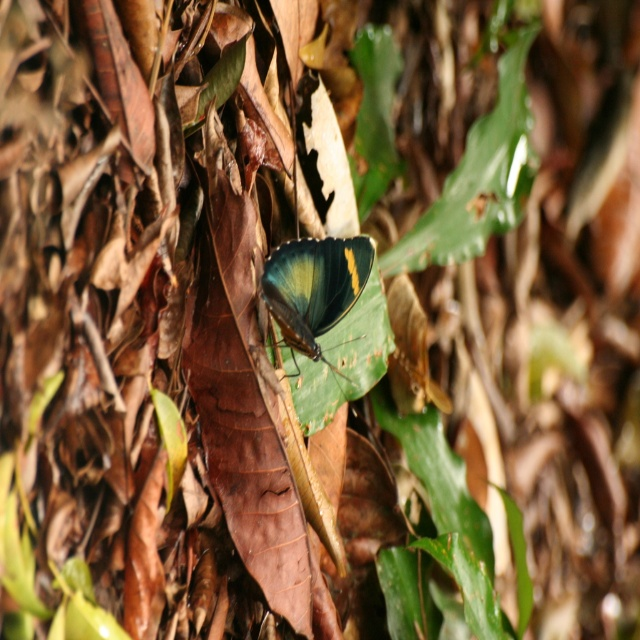Butterfly: (256, 214, 378, 387)
